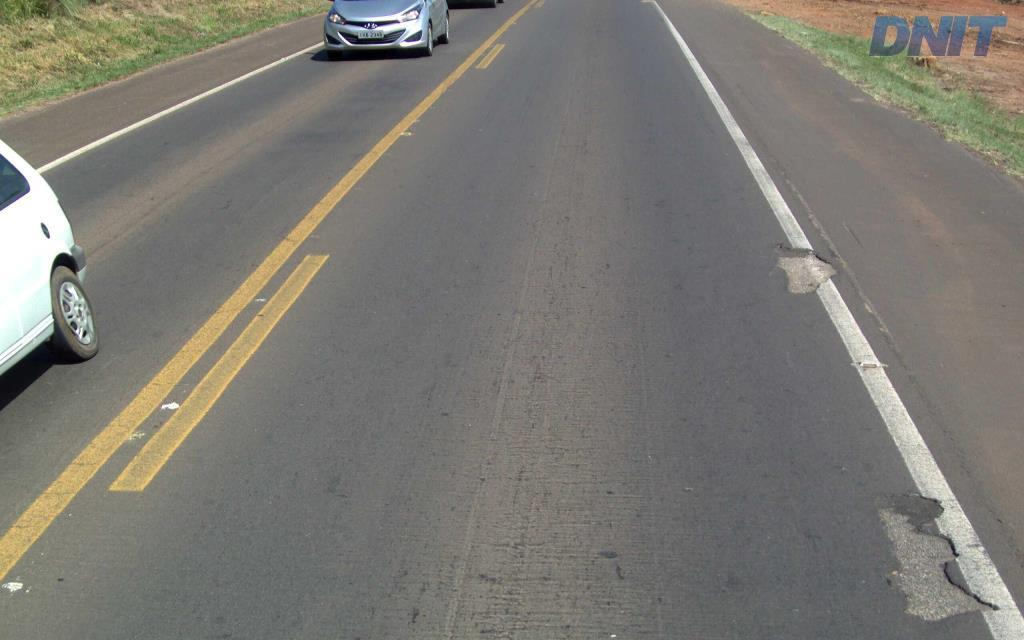pothole: (864, 502, 1009, 627), (760, 242, 841, 297)
